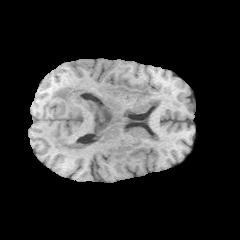glioma: (45, 81, 181, 173)
